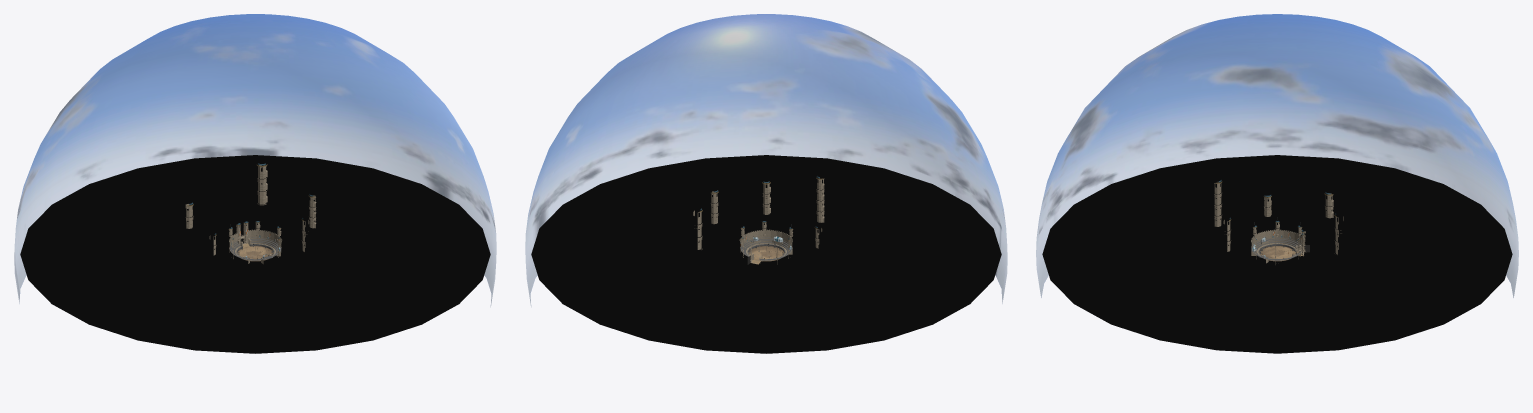
The model's file is arena_court.glb.
3 views of the same model, side by side, from view 1: azimuth 30°, elevation 25°; view 2: azimuth 150°, elevation 25°; view 3: azimuth 270°, elevation 25° (orthographic).
Visible parts, largest first — view 1: Arena_Floor, Sky, Arena_Brick, Arena_Block; view 2: Arena_Floor, Sky, Arena_Brick, Arena_Block; view 3: Arena_Floor, Sky, Arena_Brick, Arena_Block.
Boxes of the visible parts, x1,y1,x2,y2 form: Arena_Floor: (20,155,490,353); Sky: (14,14,496,307); Arena_Brick: (185,165,316,264); Arena_Block: (229,237,281,260); Arena_Floor: (531,155,1001,353); Sky: (525,14,1007,307); Arena_Brick: (693,178,824,264); Arena_Block: (740,237,792,260); Arena_Floor: (1042,155,1512,353); Sky: (1036,14,1518,297); Arena_Brick: (1214,181,1343,264); Arena_Block: (1251,237,1301,260).
Bounding box in the file's own units: 380 × 230 × 380.
Materials: 8 (6 with a texture image).
